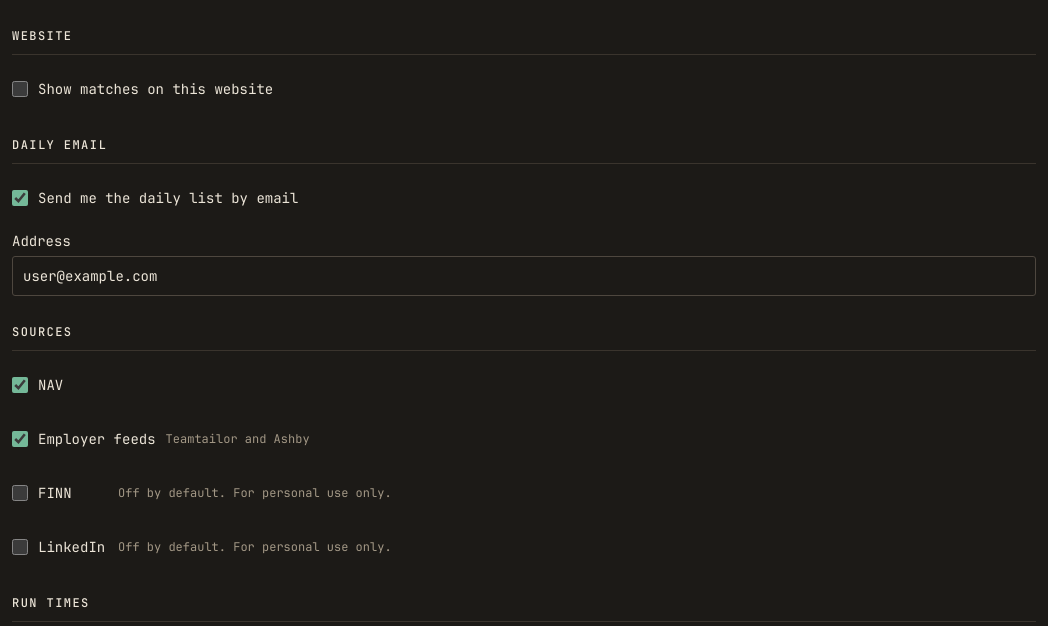
DeliverySettings › should drop the delivery warning after a later change is sent
Click the checkbox labelled "Send me the daily list by email". click: {"x": 20, "y": 198}
box: 12,190 -> 28,206
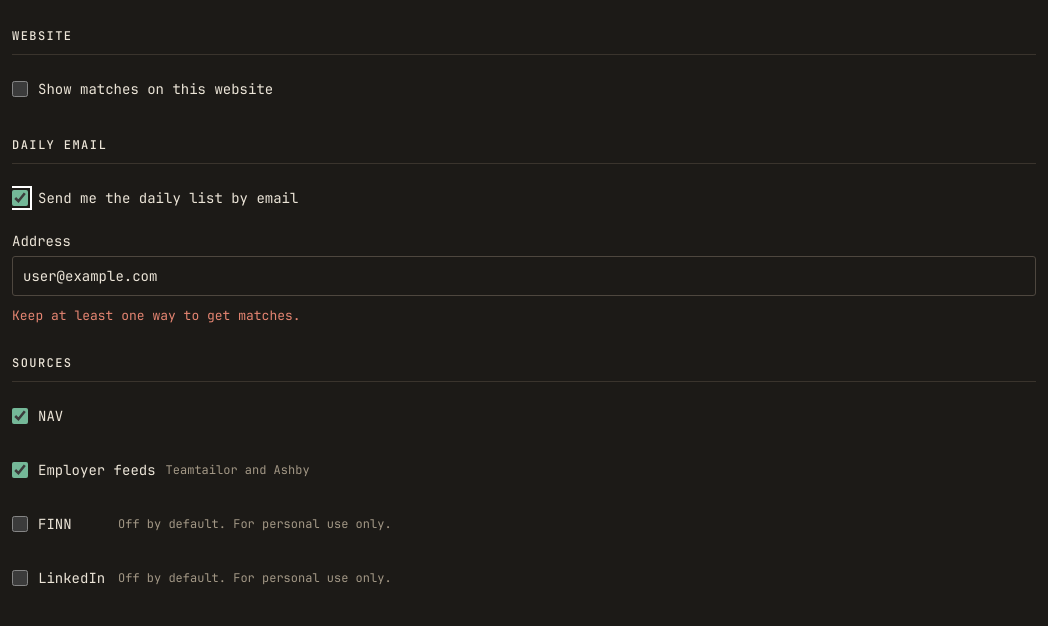
Click the checkbox labelled "Show matches on this website". click: {"x": 20, "y": 89}
box: 12,81 -> 28,97
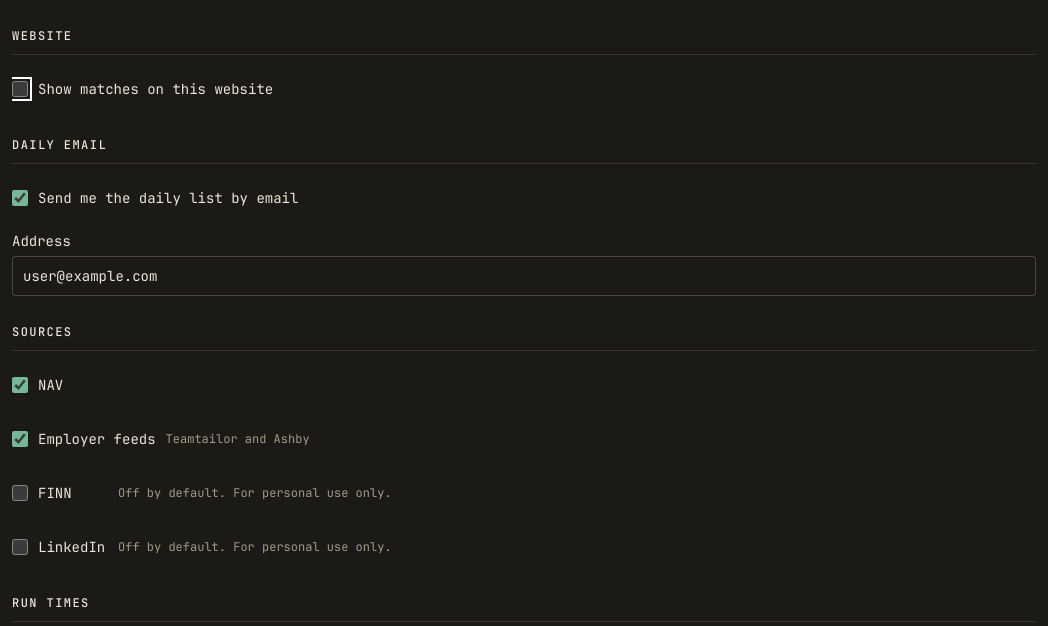
Expected: the message "Keep at least one way to get matches." is gone
